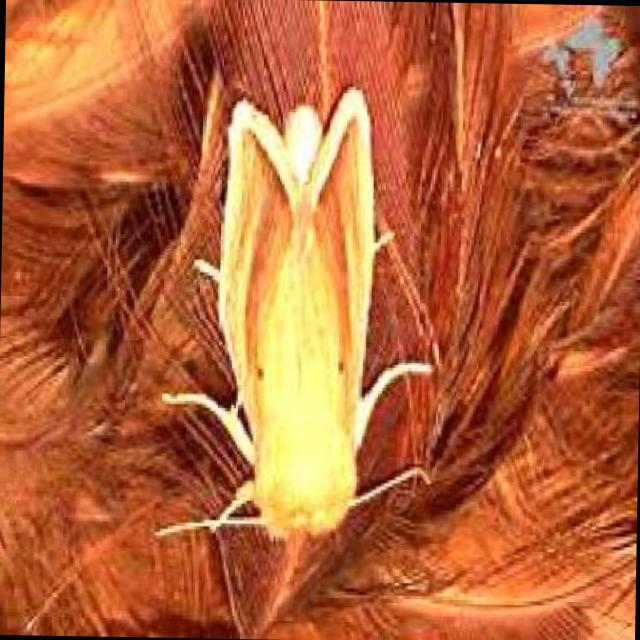stem-borer: (205, 72, 402, 554)
